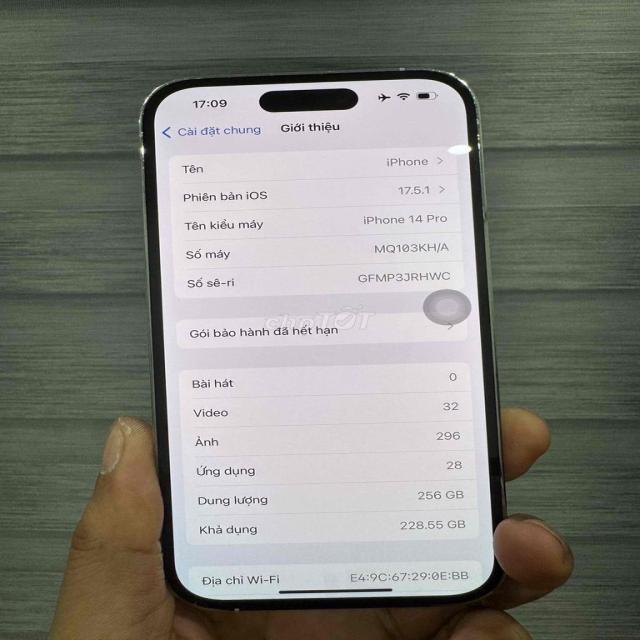gen_14: (138, 62, 510, 614)
